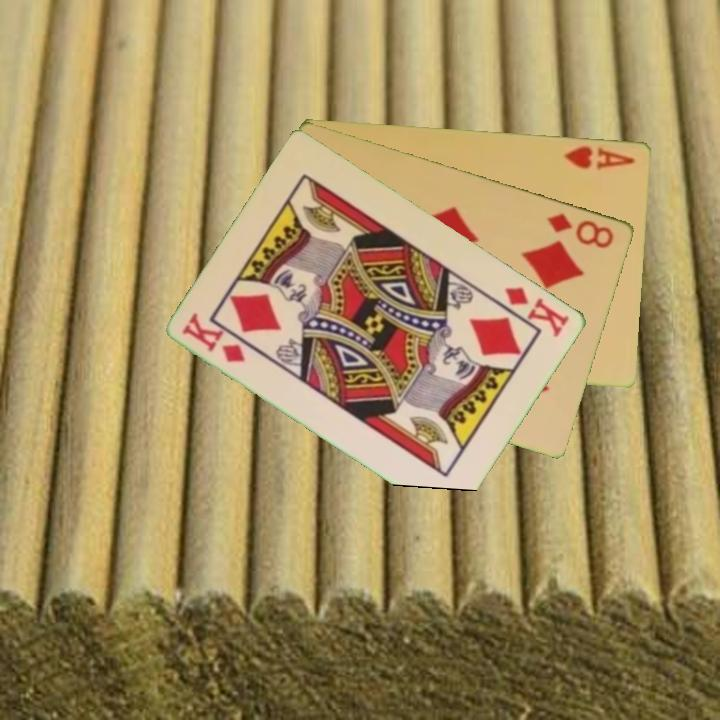8d: (543, 209, 617, 251)
Ah: (561, 142, 638, 172)
Kd: (502, 282, 573, 341), (179, 309, 249, 366)
